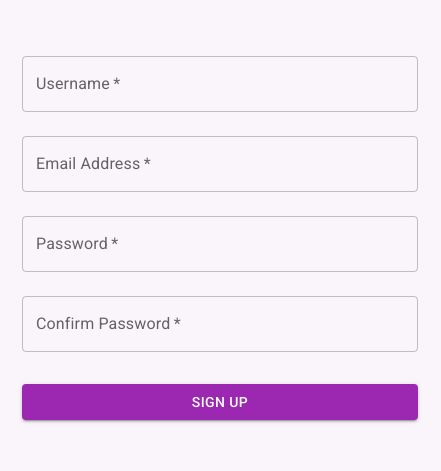
Test: <RegisterForm /> › submits the form and shows an alert for failure to create new user
Note: Enter invalid email and password
Type "User1" into the field labelled "Username" at coordinates (220, 84), box [22,56,418,112]
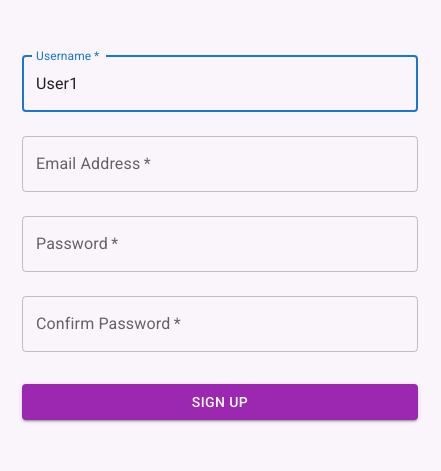
Type "user1@example.com" into the field labelled "Email Address" at coordinates (220, 164), box [22,136,418,192]
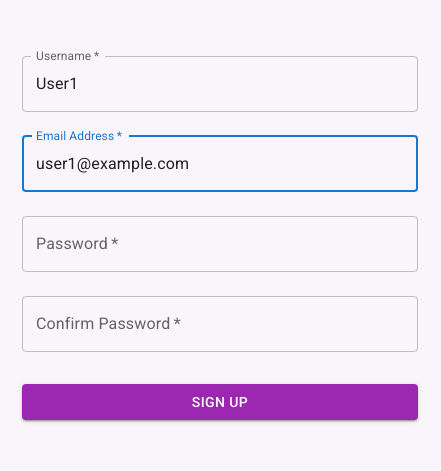
Type "12345test" into the text "Password" at coordinates (77, 243), box [36,232,118,255]
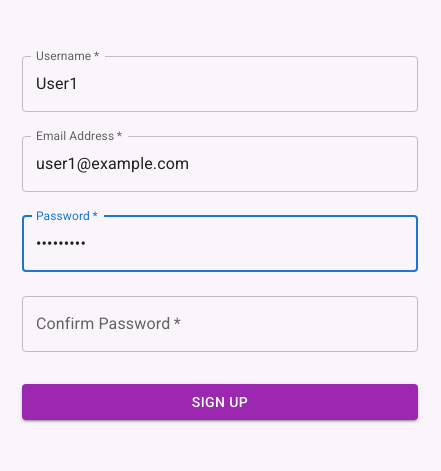
Type "12345test" into the text "Confirm Password" at coordinates (108, 323), box [36,312,181,335]
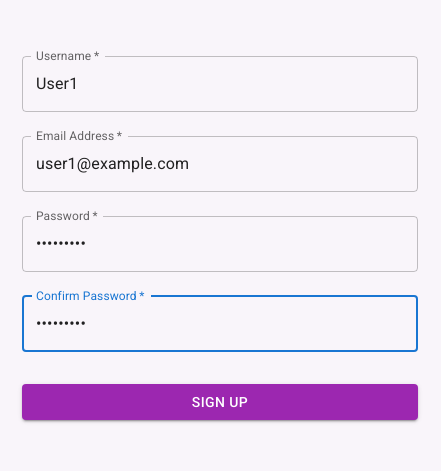
Click the button "Sign Up" at coordinates (220, 402), box [22,384,418,420]
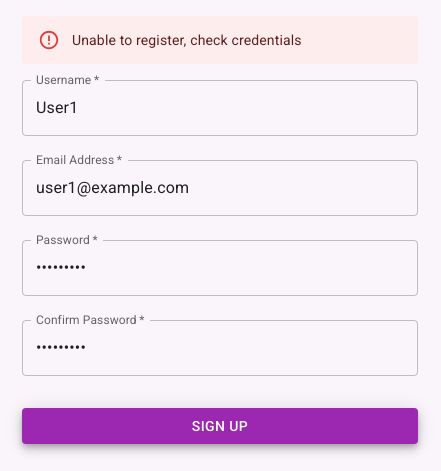
Expected: the text "Unable to register, check credentials" is shown, [72,32,302,48]
